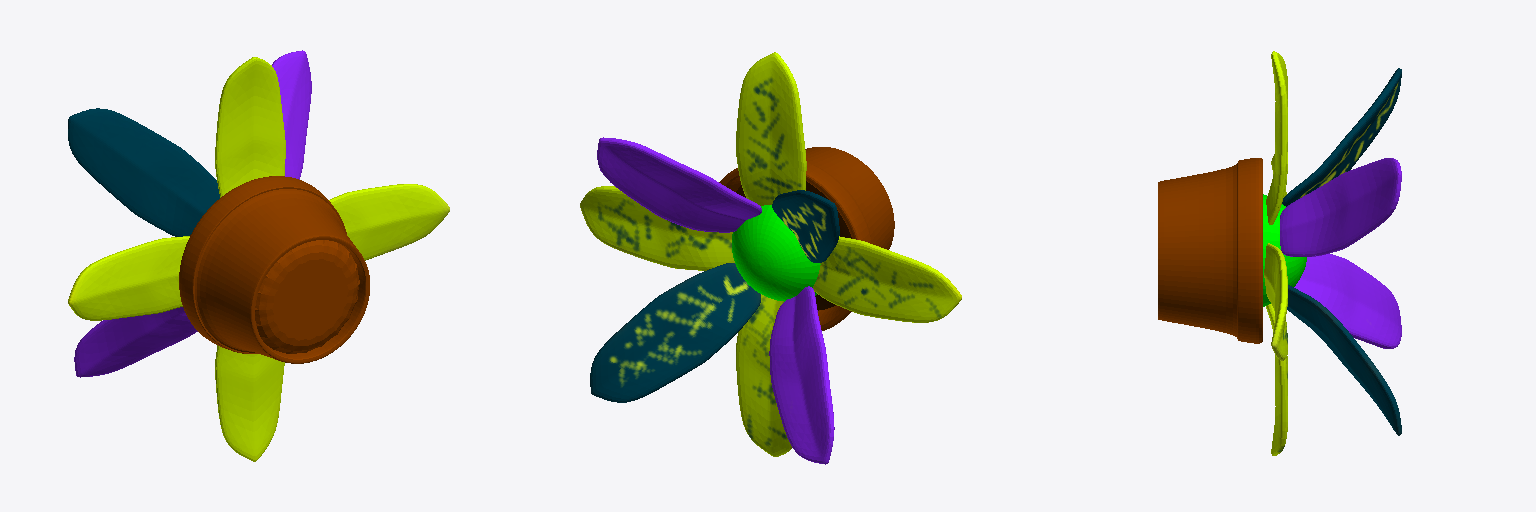
3 views of the same model, side by side, from view 1: azimuth 30°, elevation 25°; view 2: azimuth 150°, elevation 25°; view 3: azimuth 270°, elevation 25° (orthographic).
Visible parts, largest first — view 1: comida_entera:pCylinder3; view 2: comida_entera:pCylinder3; view 3: comida_entera:pCylinder3.
Part boxes in pixels (x1,y1,x2,y2): comida_entera:pCylinder3: (68, 50, 449, 461); comida_entera:pCylinder3: (580, 52, 961, 464); comida_entera:pCylinder3: (1158, 51, 1401, 455).
Bounding box in the file's own units: 0.9747 × 0.9874 × 0.5411.
Materials: 1 (1 with a texture image).